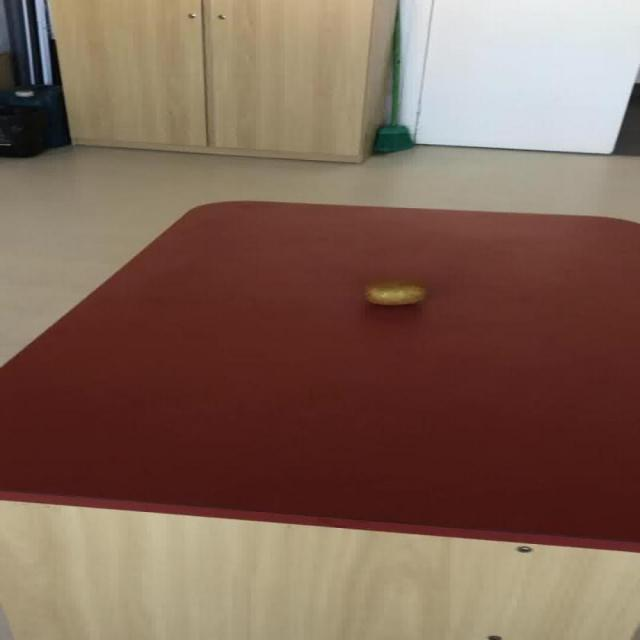Kiwi: (362, 282, 425, 305)
